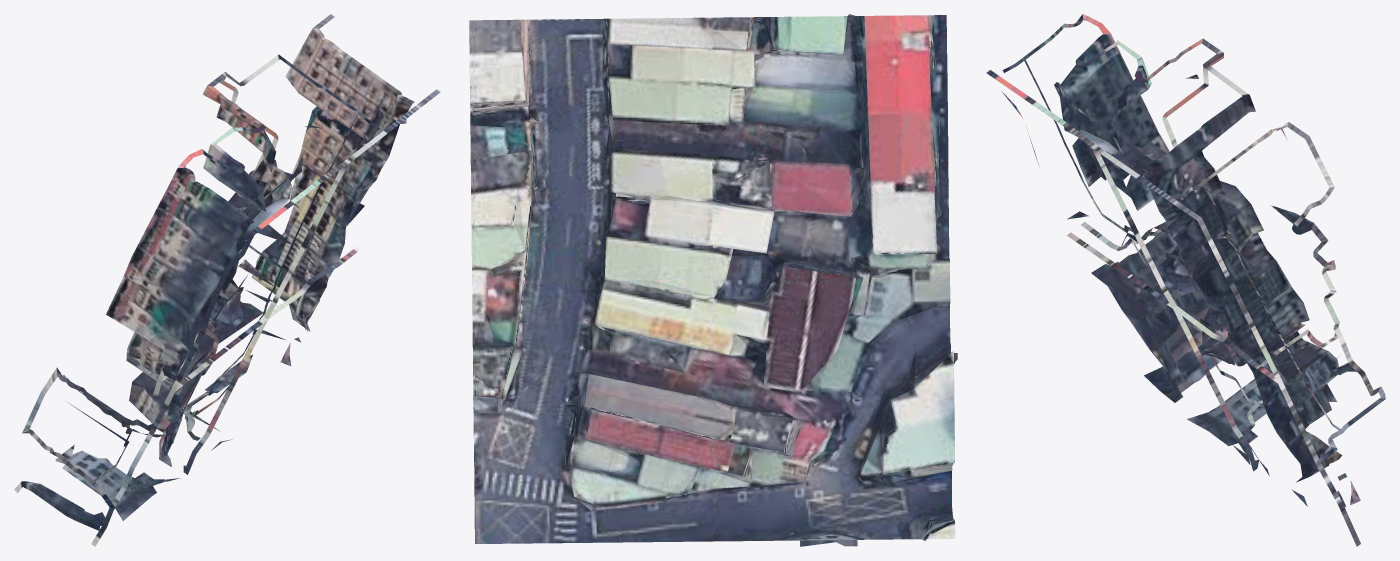
3 views of the same model, side by side, from view 1: azimuth 30°, elevation 25°; view 2: azimuth 150°, elevation 25°; view 3: azimuth 270°, elevation 25° (orthographic). The views are drawn at different scales.
Size of the model in its own units: 84.87 by 81.12 by 68.08.
Materials: 1 (1 with a texture image).
